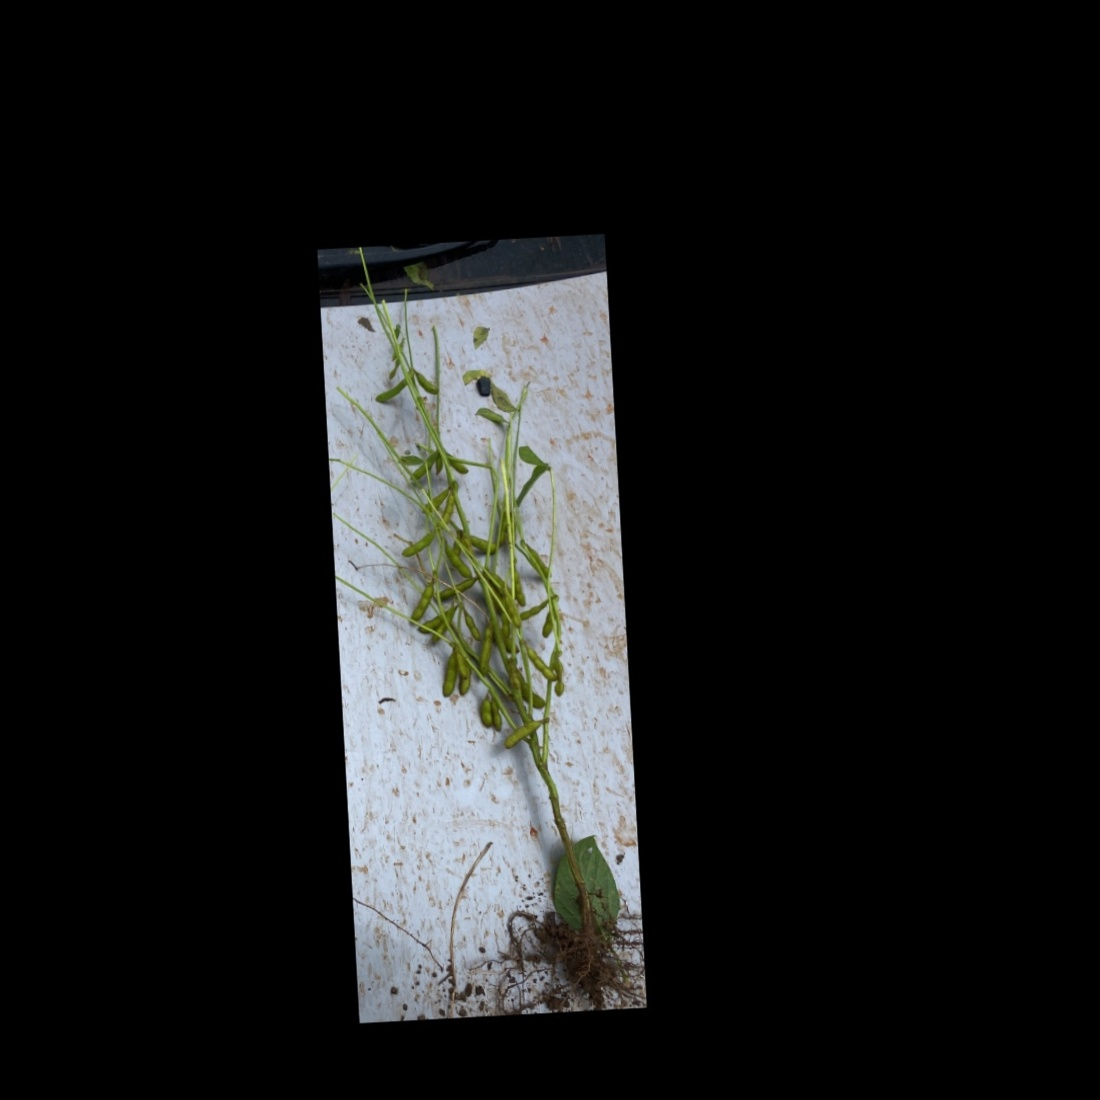pod: (502, 715, 543, 751), (522, 641, 555, 684), (405, 584, 435, 626), (443, 543, 472, 579), (400, 530, 437, 557), (372, 378, 406, 405), (476, 627, 495, 677), (439, 653, 458, 698), (413, 366, 438, 394), (461, 609, 482, 642), (551, 659, 566, 698), (518, 602, 547, 621), (491, 697, 503, 733), (479, 696, 492, 730), (538, 614, 552, 640), (386, 360, 400, 381)
soy: (360, 283, 627, 984)
